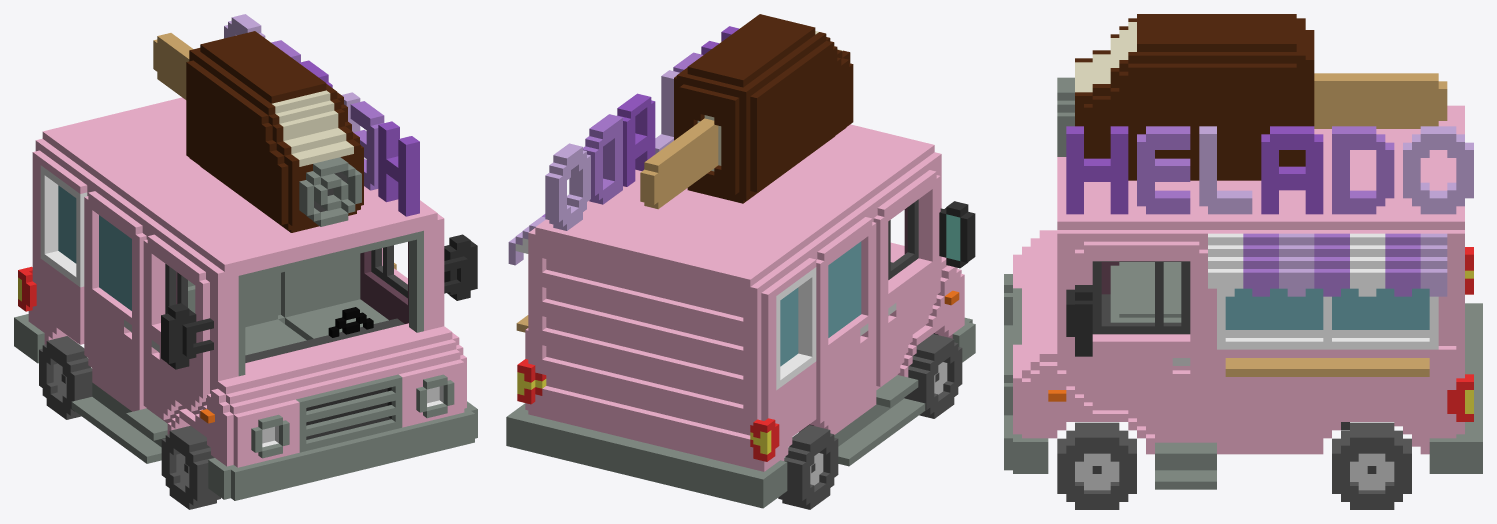
File: camion_helado.fbx
3 renders of one model, left to right at view 1: azimuth 30°, elevation 25°; view 2: azimuth 150°, elevation 25°; view 3: azimuth 270°, elevation 25°, orthographic. The views are drawn at different scales.
Visible parts, largest first — view 1: camion_helado; view 2: camion_helado; view 3: camion_helado.
Part boxes in pixels (<box>): camion_helado: <box>14,14,477,509</box>; camion_helado: <box>506,14,975,509</box>; camion_helado: <box>1004,14,1482,509</box>.
Size of the model in its own units: 450 by 510 by 540.
Materials: 1 (1 with a texture image).
